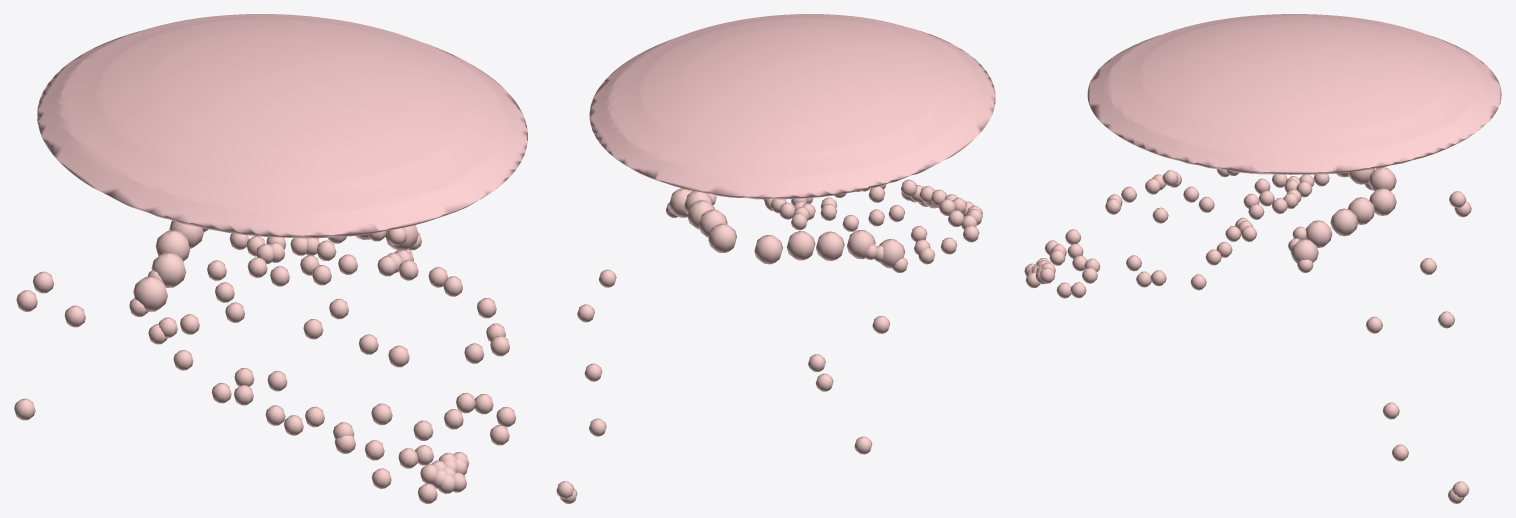
Rendered from anatomyverse-oral2.glb.
3 renders of one model, left to right at view 1: azimuth 30°, elevation 25°; view 2: azimuth 150°, elevation 25°; view 3: azimuth 270°, elevation 25°, orthographic. The views are drawn at different scales.
Visible parts, largest first — view 1: zo_oral_cavity, zo_taste; view 2: zo_oral_cavity, zo_taste; view 3: zo_oral_cavity, zo_taste.
Boxes of the visible parts, <box> form: zo_oral_cavity: <box>37,14,527,238</box>; zo_taste: <box>14,220,516,503</box>; zo_oral_cavity: <box>589,14,995,199</box>; zo_taste: <box>556,179,982,503</box>; zo_oral_cavity: <box>1087,14,1501,174</box>; zo_taste: <box>1024,167,1471,503</box>.
Bounding box in the file's own units: 0.0344 × 0.0394 × 0.0444.
